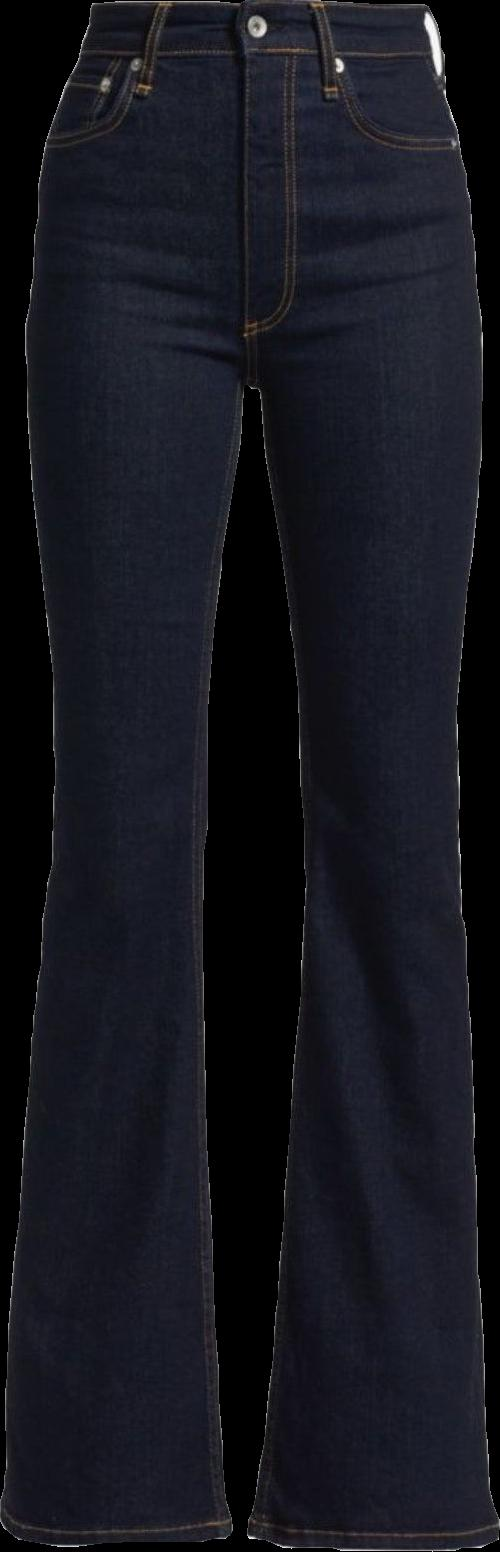Hemline: (0, 1511, 232, 1550), (241, 1521, 499, 1550)
Pantleg: (244, 0, 499, 1549), (0, 0, 252, 1546)
Waistline: (75, 39, 442, 72), (85, 0, 429, 23)
